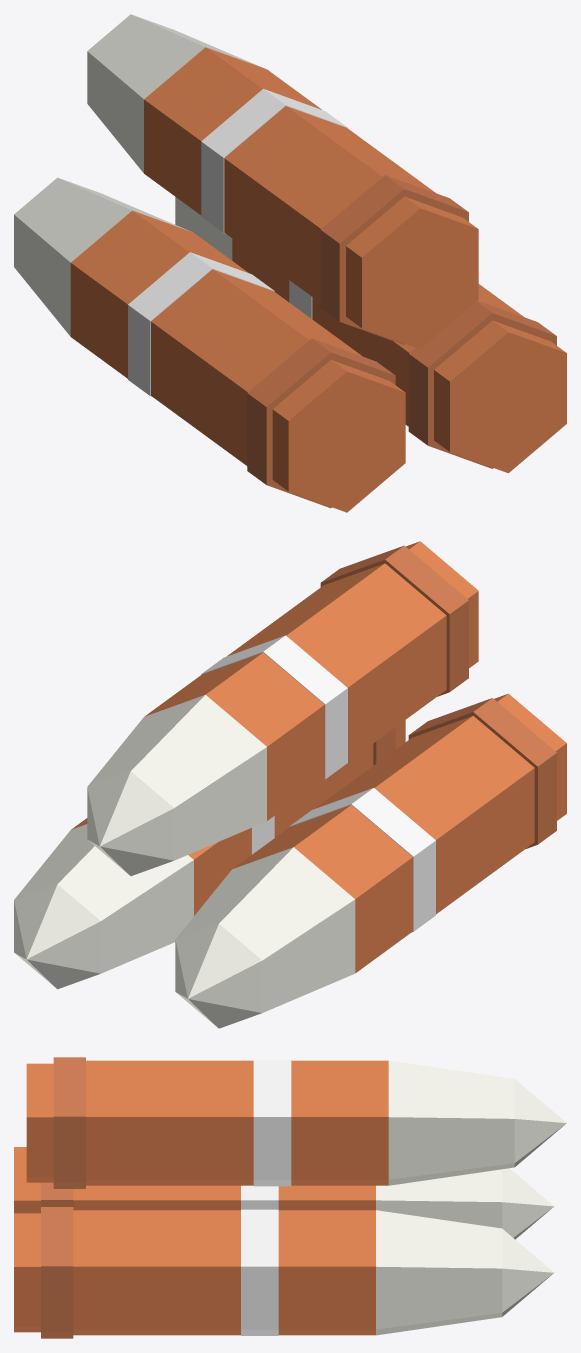
The model's file is ce_ammo_artillery_inc_b.obj.
The picture shows the model from 3 angles, top to bottom: view 1: azimuth 30°, elevation 25°; view 2: azimuth 150°, elevation 25°; view 3: azimuth 270°, elevation 25°; orthographic projection. The views are drawn at different scales.
Visible parts, largest first — view 1: ce_ammo_artillery_inc_b_16, ce_ammo_artillery_inc_b_2, ce_ammo_artillery_inc_b_0, ce_ammo_artillery_inc_b_7, ce_ammo_artillery_inc_b_14, ce_ammo_artillery_inc_b_18, ce_ammo_artillery_inc_b_4, ce_ammo_artillery_inc_b_5, ce_ammo_artillery_inc_b_19, ce_ammo_artillery_inc_b_1, ce_ammo_artillery_inc_b_15, ce_ammo_artillery_inc_b_8 (+5 smaller); view 2: ce_ammo_artillery_inc_b_16, ce_ammo_artillery_inc_b_2, ce_ammo_artillery_inc_b_5, ce_ammo_artillery_inc_b_19, ce_ammo_artillery_inc_b_12, ce_ammo_artillery_inc_b_18, ce_ammo_artillery_inc_b_4, ce_ammo_artillery_inc_b_6, ce_ammo_artillery_inc_b_20, ce_ammo_artillery_inc_b_13, ce_ammo_artillery_inc_b_1, ce_ammo_artillery_inc_b_15 (+6 smaller); view 3: ce_ammo_artillery_inc_b_9, ce_ammo_artillery_inc_b_16, ce_ammo_artillery_inc_b_19, ce_ammo_artillery_inc_b_12, ce_ammo_artillery_inc_b_18, ce_ammo_artillery_inc_b_11, ce_ammo_artillery_inc_b_5, ce_ammo_artillery_inc_b_17, ce_ammo_artillery_inc_b_10, ce_ammo_artillery_inc_b_8, ce_ammo_artillery_inc_b_15, ce_ammo_artillery_inc_b_2 (+9 smaller).
Boxes of the visible parts, x1,y1,x2,y2 form: ce_ammo_artillery_inc_b_16: [224, 106, 435, 302]; ce_ammo_artillery_inc_b_2: [151, 269, 362, 465]; ce_ammo_artillery_inc_b_0: [272, 360, 405, 512]; ce_ammo_artillery_inc_b_7: [434, 320, 566, 473]; ce_ammo_artillery_inc_b_14: [346, 196, 478, 349]; ce_ammo_artillery_inc_b_18: [144, 47, 321, 215]; ce_ammo_artillery_inc_b_4: [70, 210, 248, 378]; ce_ammo_artillery_inc_b_5: [14, 177, 190, 336]; ce_ammo_artillery_inc_b_19: [87, 14, 264, 172]; ce_ammo_artillery_inc_b_1: [247, 338, 395, 508]; ce_ammo_artillery_inc_b_15: [320, 175, 468, 344]; ce_ammo_artillery_inc_b_8: [408, 300, 556, 468]; ce_ammo_artillery_inc_b_16: [227, 563, 446, 761]; ce_ammo_artillery_inc_b_2: [315, 716, 534, 914]; ce_ammo_artillery_inc_b_5: [176, 847, 355, 1012]; ce_ammo_artillery_inc_b_19: [88, 695, 266, 860]; ce_ammo_artillery_inc_b_12: [14, 824, 193, 973]; ce_ammo_artillery_inc_b_18: [145, 652, 324, 820]; ce_ammo_artillery_inc_b_4: [233, 805, 412, 973]; ce_ammo_artillery_inc_b_6: [175, 923, 262, 1028]; ce_ammo_artillery_inc_b_20: [87, 771, 174, 875]; ce_ammo_artillery_inc_b_13: [14, 884, 100, 989]; ce_ammo_artillery_inc_b_1: [408, 698, 556, 848]; ce_ammo_artillery_inc_b_15: [320, 545, 468, 696]; ce_ammo_artillery_inc_b_9: [73, 1210, 240, 1335]; ce_ammo_artillery_inc_b_16: [86, 1060, 253, 1185]; ce_ammo_artillery_inc_b_19: [388, 1060, 514, 1185]; ce_ammo_artillery_inc_b_12: [376, 1210, 502, 1335]; ce_ammo_artillery_inc_b_18: [291, 1060, 388, 1185]; ce_ammo_artillery_inc_b_11: [278, 1210, 375, 1335]; ce_ammo_artillery_inc_b_5: [376, 1169, 502, 1228]; ce_ammo_artillery_inc_b_17: [253, 1060, 291, 1186]; ce_ammo_artillery_inc_b_10: [241, 1209, 278, 1335]; ce_ammo_artillery_inc_b_8: [41, 1207, 73, 1338]; ce_ammo_artillery_inc_b_15: [53, 1057, 85, 1188]; ce_ammo_artillery_inc_b_2: [73, 1185, 240, 1210].
Size of the model in its own units: 0.45 by 0.4355 by 0.88.
